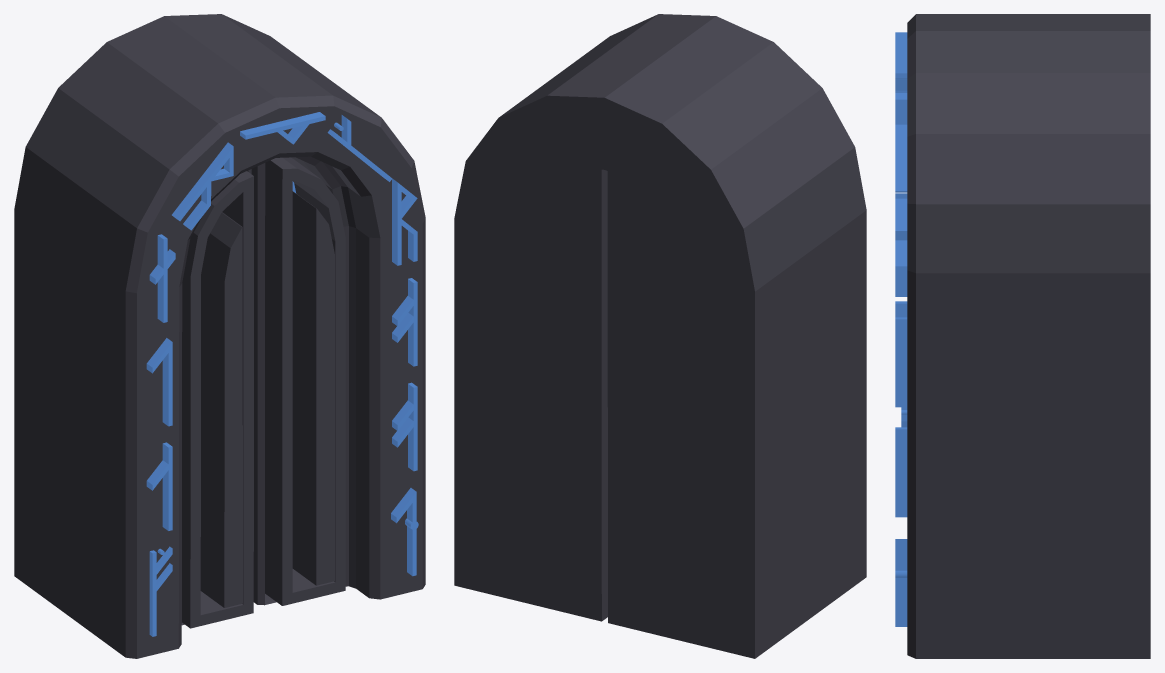
File: waterdoor.glb
3 renders of one model, left to right at view 1: azimuth 30°, elevation 25°; view 2: azimuth 150°, elevation 25°; view 3: azimuth 270°, elevation 25°, orthographic. The views are drawn at different scales.
Visible parts, largest first — view 1: Cube, T; view 2: Cube; view 3: Cube, T.
Boxes of the visible parts, x1,y1,x2,y2 form: Cube: [14, 14, 425, 658]; T: [146, 112, 418, 636]; Cube: [454, 14, 866, 658]; Cube: [907, 14, 1150, 658]; T: [895, 32, 907, 626].
Size of the model in its own units: 3 by 5 by 2.1.
Materials: 2 (2 with a texture image).
